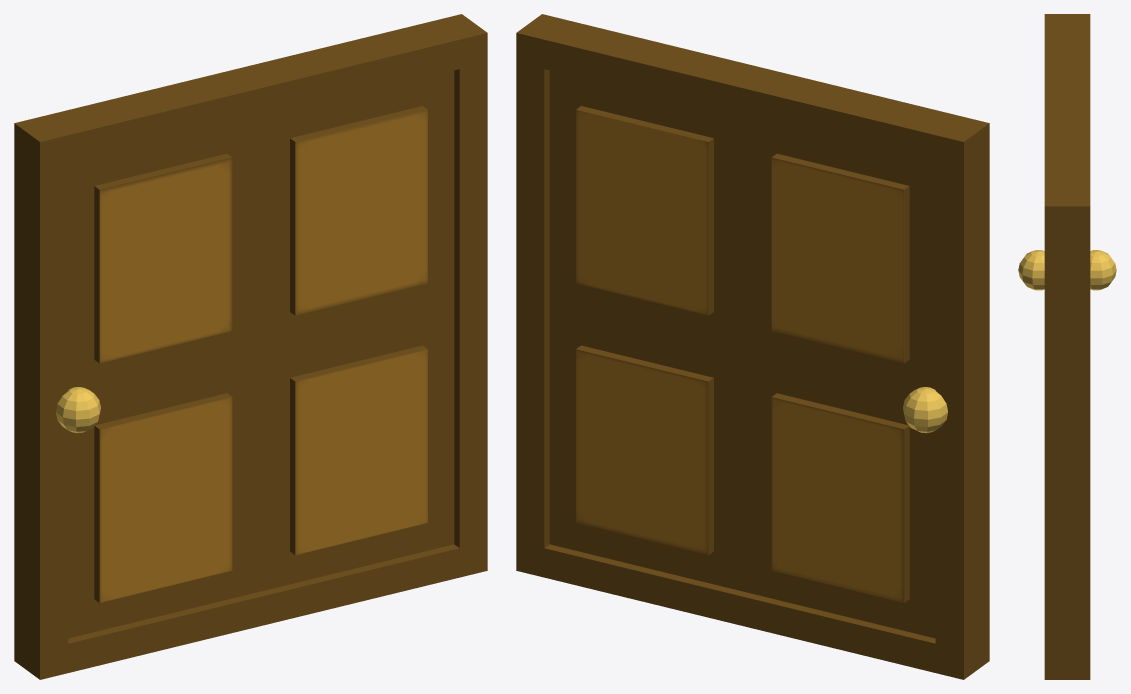
File: Door.glb
3 renders of one model, left to right at view 1: azimuth 30°, elevation 25°; view 2: azimuth 150°, elevation 25°; view 3: azimuth 270°, elevation 25°, orthographic. The views are drawn at different scales.
Visible parts, largest first — view 1: Door; view 2: Door; view 3: Door.
Boxes of the visible parts, x1=… form: Door: x1=14, y1=14, x2=487, y2=679; Door: x1=516, y1=14, x2=989, y2=679; Door: x1=1018, y1=14, x2=1116, y2=679.
Bounding box in the file's own units: 2 × 2.3 × 0.4332.
Materials: 1 (1 with a texture image).
